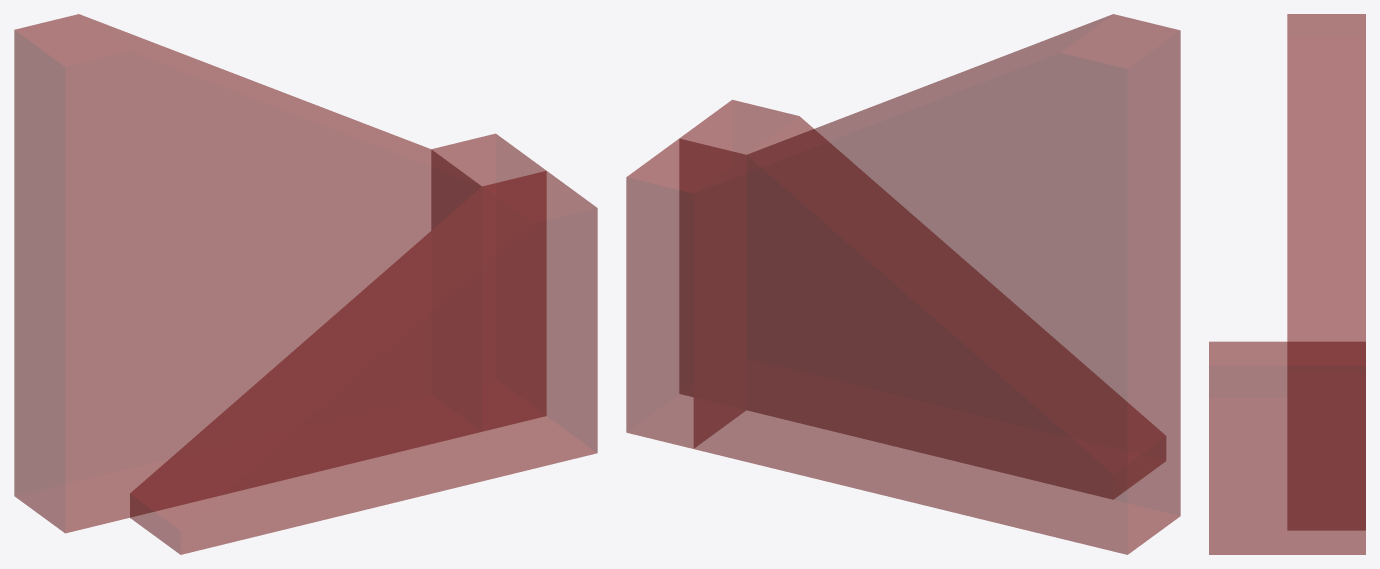
File: SM_Env_City_Wall_Stairs_01_Collision.fbx
3 views of the same model, side by side, from view 1: azimuth 30°, elevation 25°; view 2: azimuth 150°, elevation 25°; view 3: azimuth 270°, elevation 25° (orthographic). The views are drawn at different scales.
Visible parts, largest first — view 1: SM_Env_City_Wall_Stairs_01_Collision; view 2: SM_Env_City_Wall_Stairs_01_Collision; view 3: SM_Env_City_Wall_Stairs_01_Collision.
Boxes of the visible parts, x1,y1,x2,y2 form: SM_Env_City_Wall_Stairs_01_Collision: [14, 14, 597, 554]; SM_Env_City_Wall_Stairs_01_Collision: [626, 14, 1180, 554]; SM_Env_City_Wall_Stairs_01_Collision: [1209, 14, 1365, 554].
Bounding box in the file's own units: 683 × 633 × 250.
